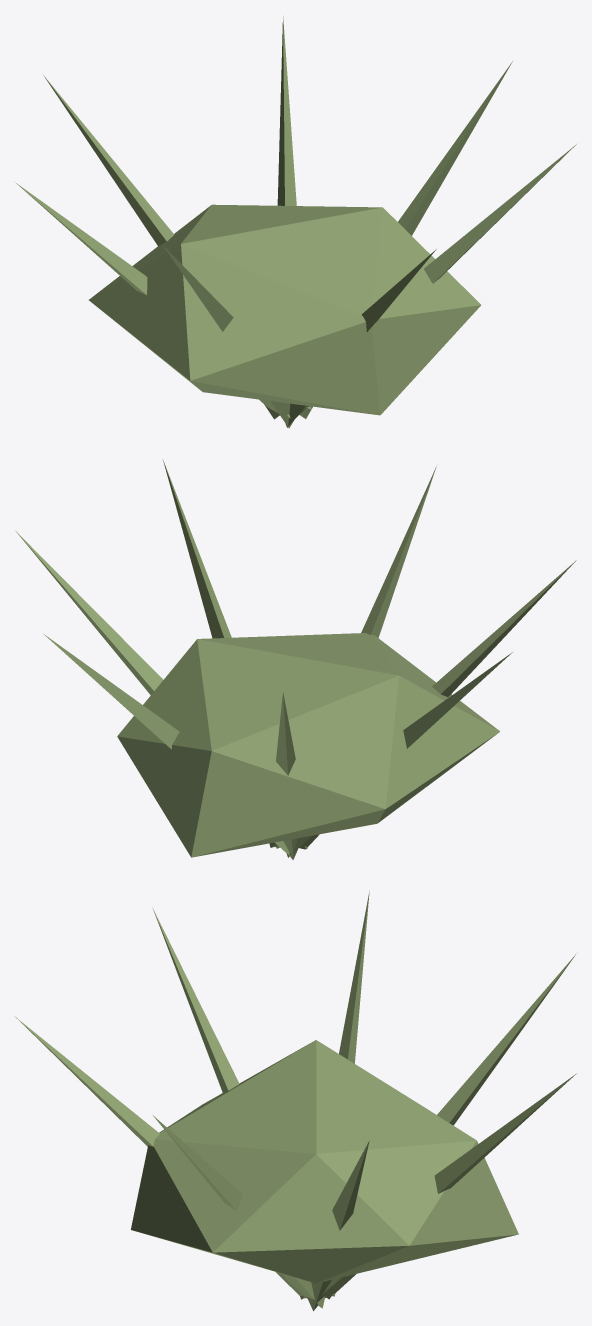
The model's file is bush_green.gltf.
3 renders of one model, top to bottom at view 1: azimuth 30°, elevation 25°; view 2: azimuth 150°, elevation 25°; view 3: azimuth 270°, elevation 25°, orthographic. The views are drawn at different scales.
Visible parts, largest first — view 1: bush_green; view 2: bush_green; view 3: bush_green.
Boxes of the visible parts, x1,y1,x2,y2 form: bush_green: [15, 16, 576, 428]; bush_green: [15, 460, 576, 859]; bush_green: [14, 891, 577, 1311].
Bounding box in the file's own units: 1.25 × 0.6836 × 1.19.
